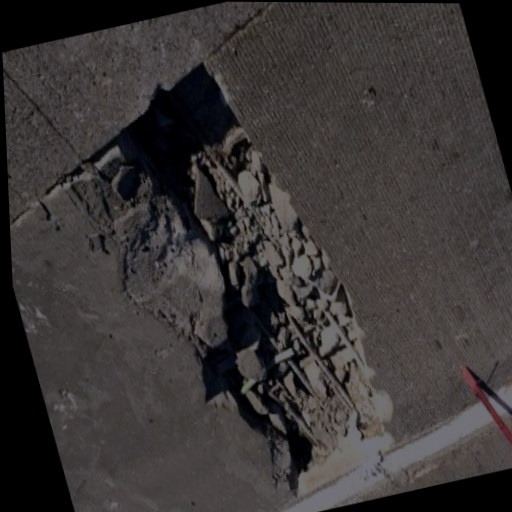pothole: (87, 36, 411, 512)
